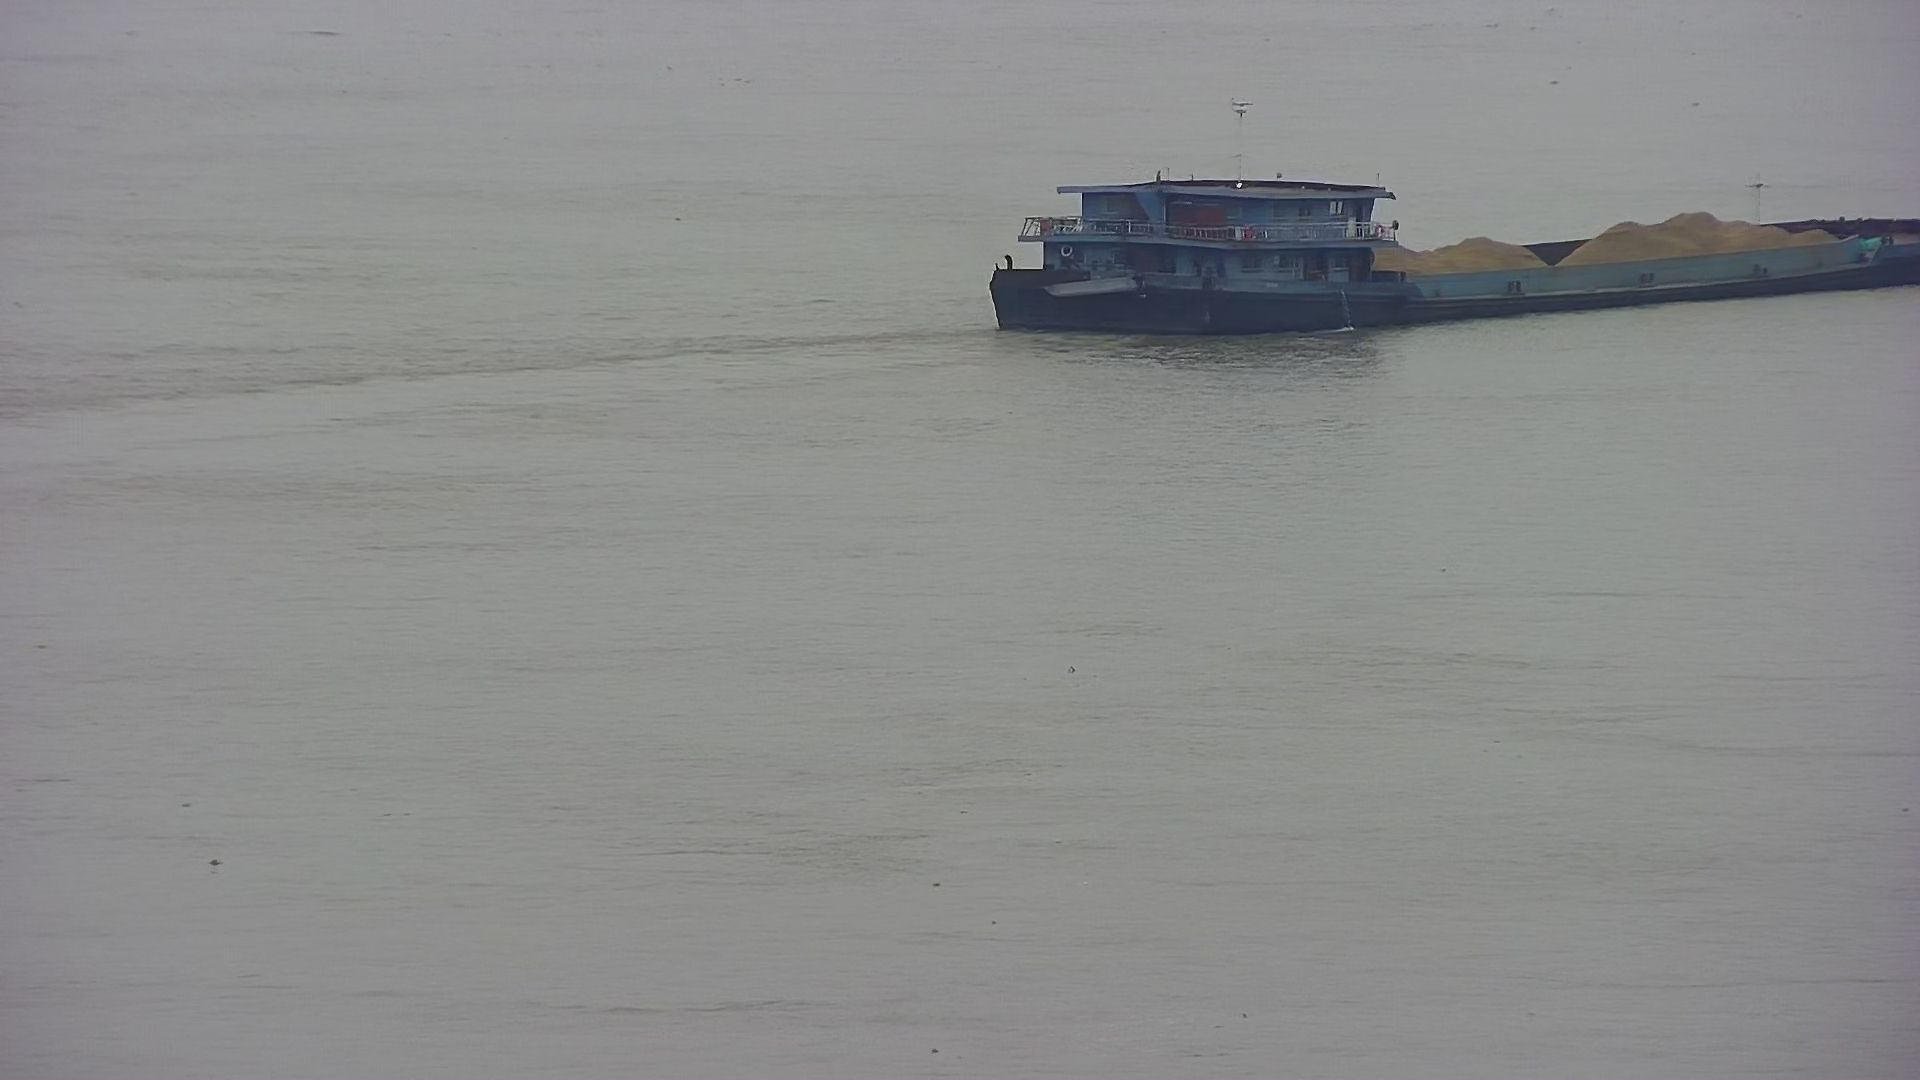ship: (981, 156, 1920, 326)
